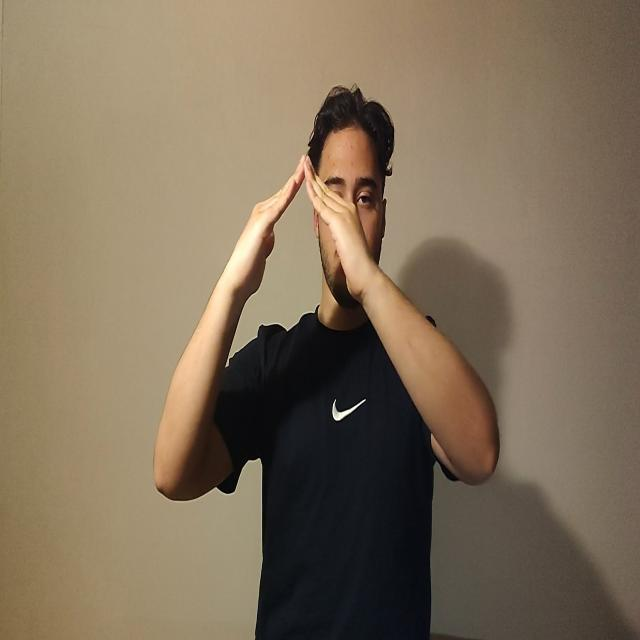house: (224, 153, 368, 304)
